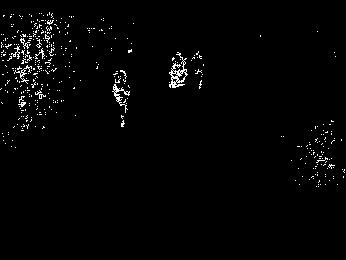person: (109, 67, 135, 126)
